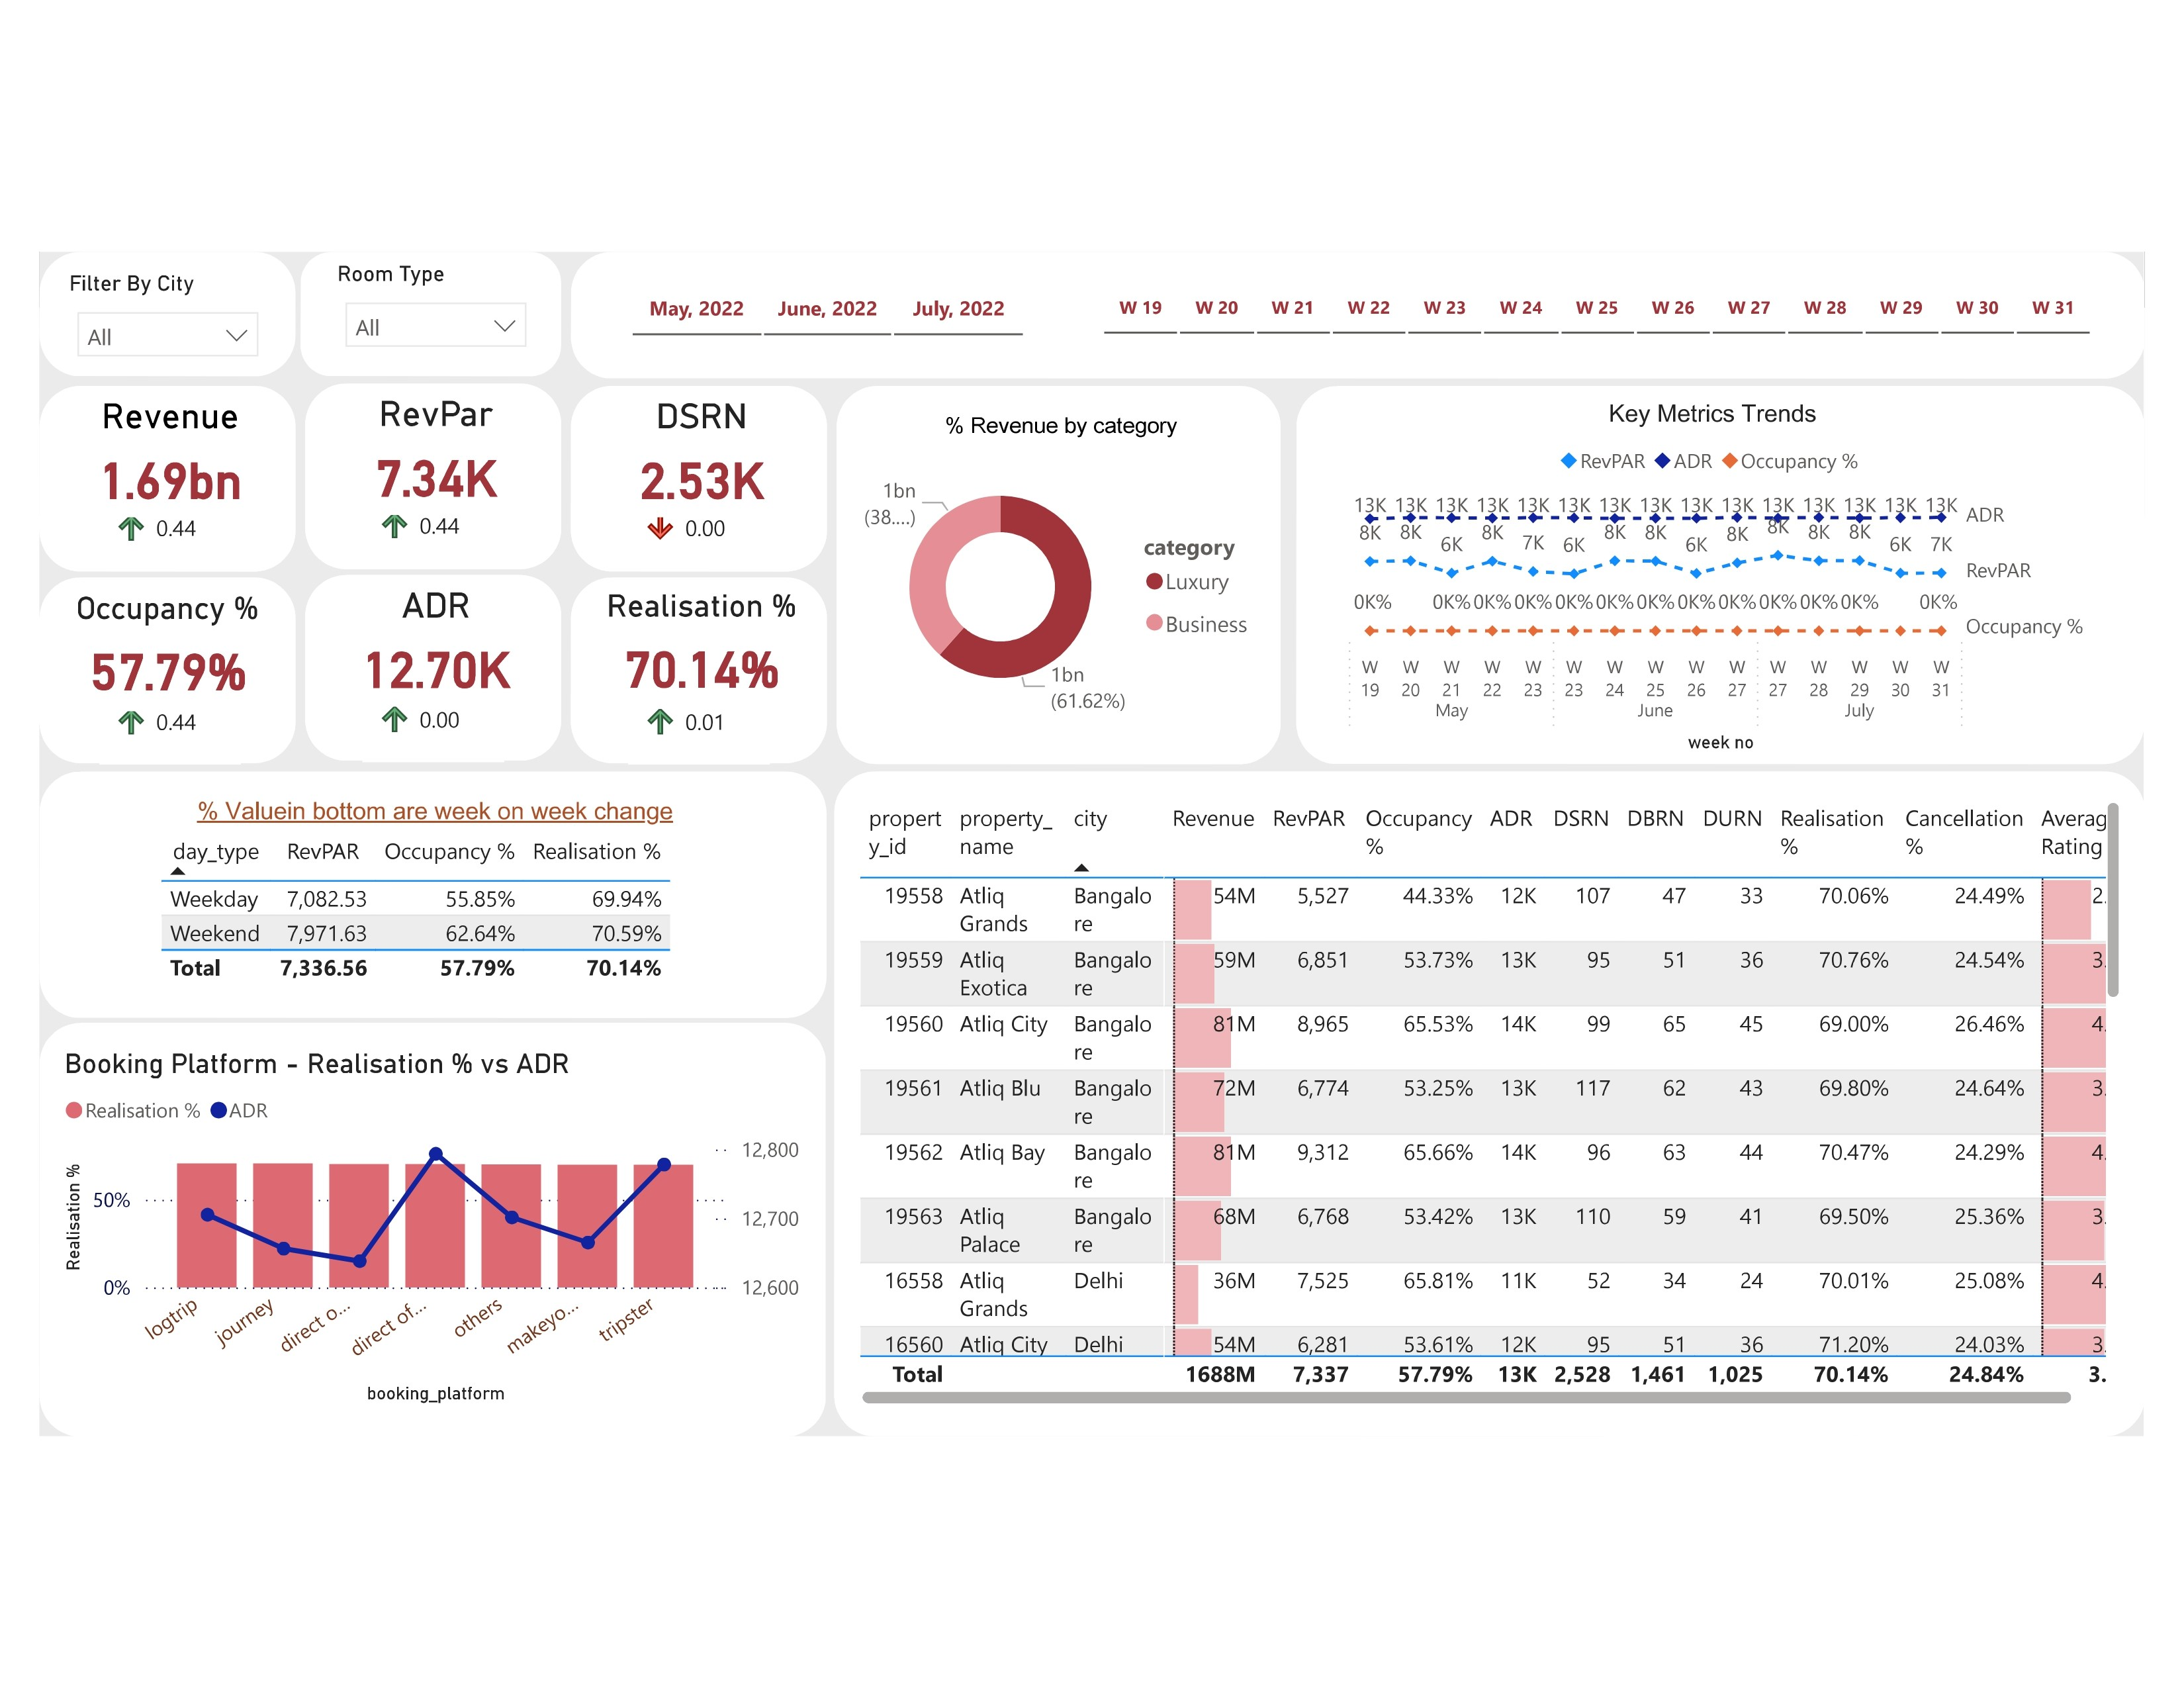

Layout of this report page (visuals, bound fields, positions):
{"tool":"powerbi","page":{"name":"Page 1","canvas":[1280,720],"ordinal":0},"visuals":[{"type":"shape","box":[0,468.3,478.3,251.7],"z":0},{"type":"shape","box":[0,315.7,478.6,150],"z":1000},{"type":"shape","box":[764.3,81.4,515.7,230],"z":2000},{"type":"shape","box":[484.3,81.4,270,230],"z":3000},{"type":"shape","box":[0,81.4,155.7,112.9],"z":4000},{"type":"shape","box":[322.9,0,957.1,77.1],"z":5000},{"type":"shape","box":[158.6,0,158.6,75.7],"z":6000},{"type":"shape","box":[0,0,155.7,75.7],"z":7000},{"type":"slicer","title":"Filter By City","fields":{"Values":["dim_hotels.city"]},"box":[13.1,11.6,129.5,55.3],"z":8000},{"type":"slicer","title":"Room Type","fields":{"Values":["dim_rooms.room_class"]},"box":[176.1,5.8,129.5,61.1],"z":9000},{"type":"slicer","fields":{"Values":["dim_date.mmm yy"]},"box":[334.3,11.4,287.1,45.7],"z":10000},{"type":"slicer","fields":{"Values":["dim_date.week no"]},"box":[621.5,11.6,649.2,45.1],"z":11000},{"type":"tableEx","fields":{"Values":["Key Measures.Revenue WoW change %"]},"box":[35.7,124.3,85.7,70],"z":12000},{"type":"card","title":"Revenue","fields":{"Values":["Key Measures.Revenue"]},"box":[14.3,87.1,130,74.3],"z":13000},{"type":"donutChart","title":"% Revenue by category","fields":{"Y":["Key Measures.Revenue"],"Category":["dim_hotels.category"]},"box":[491.4,95.7,258.6,198.6],"z":14000},{"type":"lineChart","title":"Key Metrics Trends","fields":{"Category":["dim_date.mmm yy.Variation.Date Hierarchy.Month","dim_date.week no"],"Y":["Key Measures.RevPAR","Key Measures.ADR","Key Measures.Occupancy %"]},"box":[782.9,87.1,468.6,221.4],"z":15000},{"type":"lineStackedColumnComboChart","title":"Booking Platform - Realisation % vs ADR","fields":{"Category":["fact_bookings.booking_platform"],"Y":["Key Measures.Realisation %"],"Y2":["Key Measures.ADR"]},"box":[10,483.3,456.7,221.7],"z":16000},{"type":"tableEx","title":"% Valuein bottom are week on week change","fields":{"Values":["dim_date.day_type","Key Measures.RevPAR","Key Measures.Occupancy %","Key Measures.Realisation %"]},"box":[68.6,328.6,344.3,127.1],"z":17000},{"type":"shape","box":[161.4,80,155.7,112.9],"z":18000},{"type":"tableEx","fields":{"Values":["Key Measures.Revpar WoW change %"]},"box":[197.1,122.9,85.7,70],"z":19000},{"type":"card","title":"RevPar","fields":{"Values":["Key Measures.RevPAR"]},"box":[175.7,85.7,130,74.3],"z":20000},{"type":"shape","box":[322.9,81.4,155.7,112.9],"z":21000},{"type":"tableEx","fields":{"Values":["Key Measures.DSRN WoW change %"]},"box":[358.6,124.3,85.7,70],"z":22000},{"type":"card","title":"DSRN","fields":{"Values":["Key Measures.DSRN"]},"box":[337.1,87.1,130,74.3],"z":23000},{"type":"shape","box":[0,198.1,155.7,112.9],"z":24000},{"type":"tableEx","fields":{"Values":["Key Measures.Occupancy WoW change %"]},"box":[35.7,241,85.7,70],"z":25000},{"type":"card","title":"Occupancy %","fields":{"Values":["Key Measures.Occupancy %"]},"box":[13.1,205.2,129.5,74.2],"z":26000},{"type":"shape","box":[161.4,196.7,155.7,112.9],"z":27000},{"type":"tableEx","fields":{"Values":["Key Measures.ADR WoW change %"]},"box":[197.1,239.5,85.7,70],"z":28000},{"type":"card","title":"ADR","fields":{"Values":["Key Measures.ADR"]},"box":[175.7,202.4,130,74.3],"z":29000},{"type":"shape","box":[322.9,198.1,155.7,112.9],"z":30000},{"type":"tableEx","fields":{"Values":["Key Measures.Realisation WoW change %"]},"box":[358.6,241,85.7,70],"z":31000},{"type":"card","title":"Realisation %","fields":{"Values":["Key Measures.Realisation %"]},"box":[337.1,203.8,130,74.3],"z":32000},{"type":"shape","box":[482.9,315.7,797.1,404.3],"z":33000},{"type":"tableEx","fields":{"Values":["dim_hotels.property_id","dim_hotels.property_name","dim_hotels.city","Key Measures.Revenue","Key Measures.RevPAR","Key Measures.Occupancy %","Key Measures.ADR","Key Measures.DSRN","Key Measures.DBRN","Key Measures.DURN","Key Measures.Realisation %","Key Measures.Cancellation %"]},"box":[493.3,328.3,776.7,376.7],"z":34000}]}

Visuals, with their boxes on the page's 1280x720 design canvas (x1, y1, x2, y2). These are canvas units, not pixel positions in the 2184x1688 screenshot, which may show the page scaled, cropped or inside an application window:
shape: [x1=0, y1=468, x2=478, y2=720]
shape: [x1=0, y1=316, x2=479, y2=466]
shape: [x1=764, y1=81, x2=1280, y2=311]
shape: [x1=484, y1=81, x2=754, y2=311]
shape: [x1=0, y1=81, x2=156, y2=194]
shape: [x1=323, y1=0, x2=1280, y2=77]
shape: [x1=159, y1=0, x2=317, y2=76]
shape: [x1=0, y1=0, x2=156, y2=76]
"Filter By City" slicer: [x1=13, y1=12, x2=143, y2=67]
"Room Type" slicer: [x1=176, y1=6, x2=306, y2=67]
slicer - dim_date.mmm yy: [x1=334, y1=11, x2=621, y2=57]
slicer - dim_date.week no: [x1=622, y1=12, x2=1271, y2=57]
tableEx - Key Measures.Revenue WoW change %: [x1=36, y1=124, x2=121, y2=194]
"Revenue" card: [x1=14, y1=87, x2=144, y2=161]
"% Revenue by category" donutChart: [x1=491, y1=96, x2=750, y2=294]
"Key Metrics Trends" lineChart: [x1=783, y1=87, x2=1252, y2=308]
"Booking Platform - Realisation % vs ADR" lineStackedColumnComboChart: [x1=10, y1=483, x2=467, y2=705]
"% Valuein bottom are week on week change" tableEx: [x1=69, y1=329, x2=413, y2=456]
shape: [x1=161, y1=80, x2=317, y2=193]
tableEx - Key Measures.Revpar WoW change %: [x1=197, y1=123, x2=283, y2=193]
"RevPar" card: [x1=176, y1=86, x2=306, y2=160]
shape: [x1=323, y1=81, x2=479, y2=194]
tableEx - Key Measures.DSRN WoW change %: [x1=359, y1=124, x2=444, y2=194]
"DSRN" card: [x1=337, y1=87, x2=467, y2=161]
shape: [x1=0, y1=198, x2=156, y2=311]
tableEx - Key Measures.Occupancy WoW change %: [x1=36, y1=241, x2=121, y2=311]
"Occupancy %" card: [x1=13, y1=205, x2=143, y2=279]
shape: [x1=161, y1=197, x2=317, y2=310]
tableEx - Key Measures.ADR WoW change %: [x1=197, y1=240, x2=283, y2=310]
"ADR" card: [x1=176, y1=202, x2=306, y2=277]
shape: [x1=323, y1=198, x2=479, y2=311]
tableEx - Key Measures.Realisation WoW change %: [x1=359, y1=241, x2=444, y2=311]
"Realisation %" card: [x1=337, y1=204, x2=467, y2=278]
shape: [x1=483, y1=316, x2=1280, y2=720]
tableEx - dim_hotels.property_id x dim_hotels.property_name: [x1=493, y1=328, x2=1270, y2=705]
